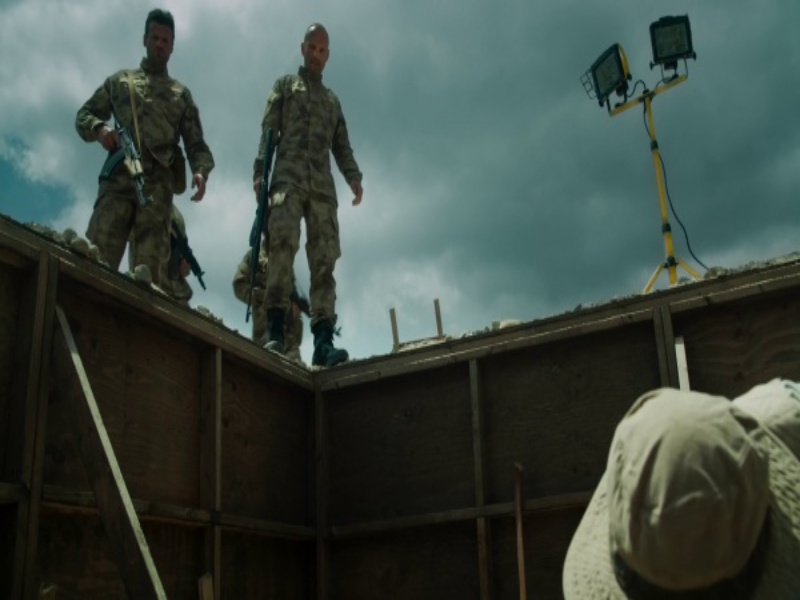person: (72, 5, 218, 298), (254, 20, 358, 366), (231, 224, 305, 373), (139, 186, 206, 314)
weapon: (244, 126, 286, 319), (251, 277, 347, 339), (96, 120, 154, 200), (163, 219, 210, 296)
